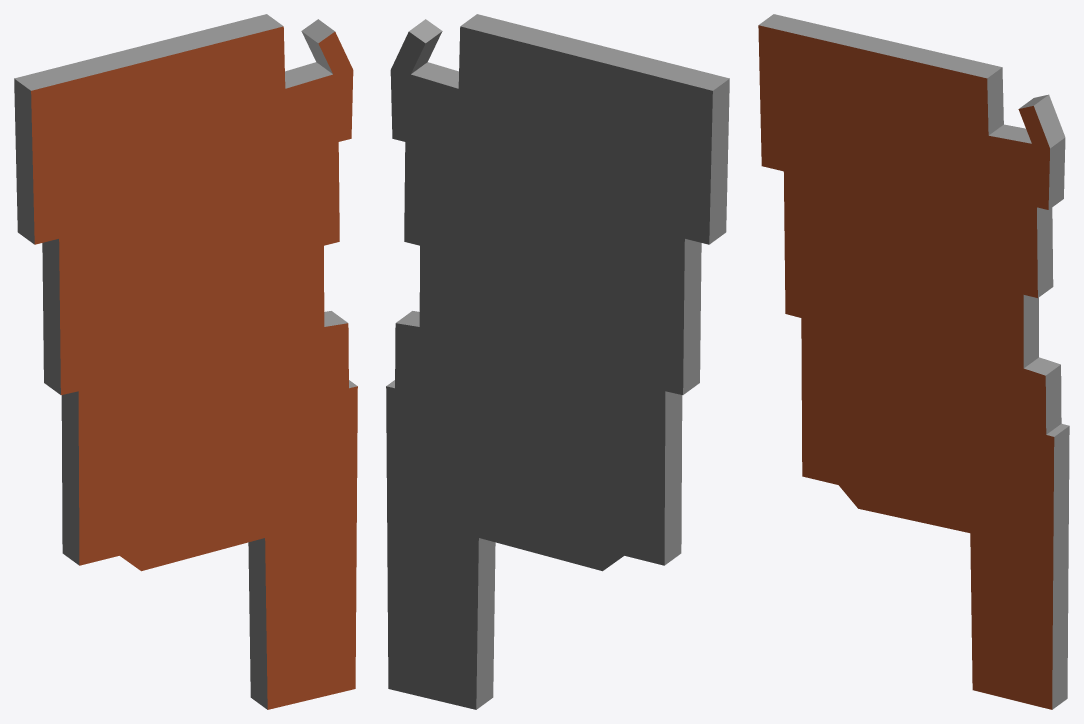
File: construction_0154_assumed_A_Grande_construcao_h6m.obj
3 views of the same model, side by side, from view 1: azimuth 30°, elevation 25°; view 2: azimuth 150°, elevation 25°; view 3: azimuth 330°, elevation 25° (orthographic). The views are drawn at different scales.
Visible parts, largest first — view 1: construction_0154_assumed_A_Grande_construcao; view 2: construction_0154_assumed_A_Grande_construcao; view 3: construction_0154_assumed_A_Grande_construcao.
Part boxes in pixels (box(x1,y1,x2,y2)): construction_0154_assumed_A_Grande_construcao: box(14, 14, 357, 709); construction_0154_assumed_A_Grande_construcao: box(386, 14, 729, 709); construction_0154_assumed_A_Grande_construcao: box(758, 14, 1069, 709).
Size of the model in its own units: 66.86 by 133 by 6.
